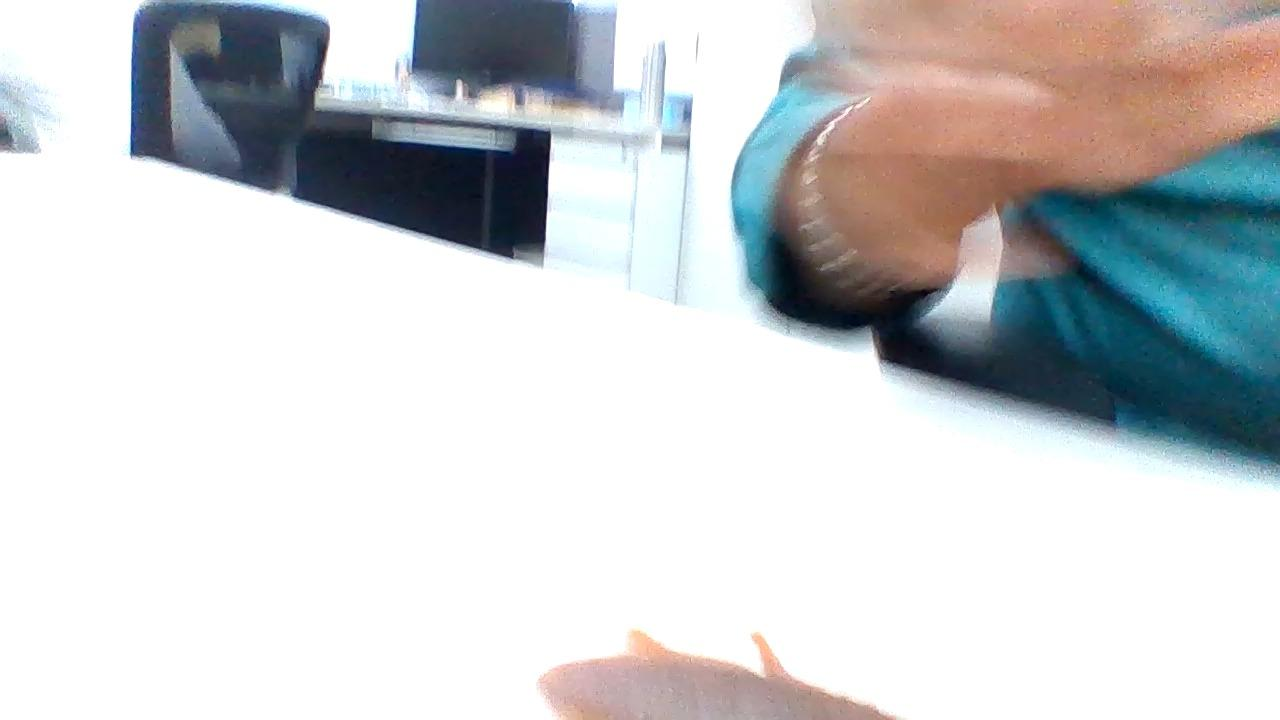cockroach: (487, 610, 907, 720)
